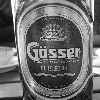beer: (8, 2, 95, 100)
